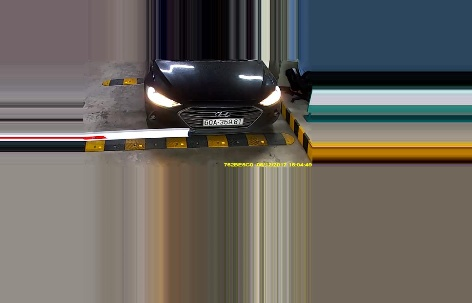plate: (202, 115, 244, 127)
